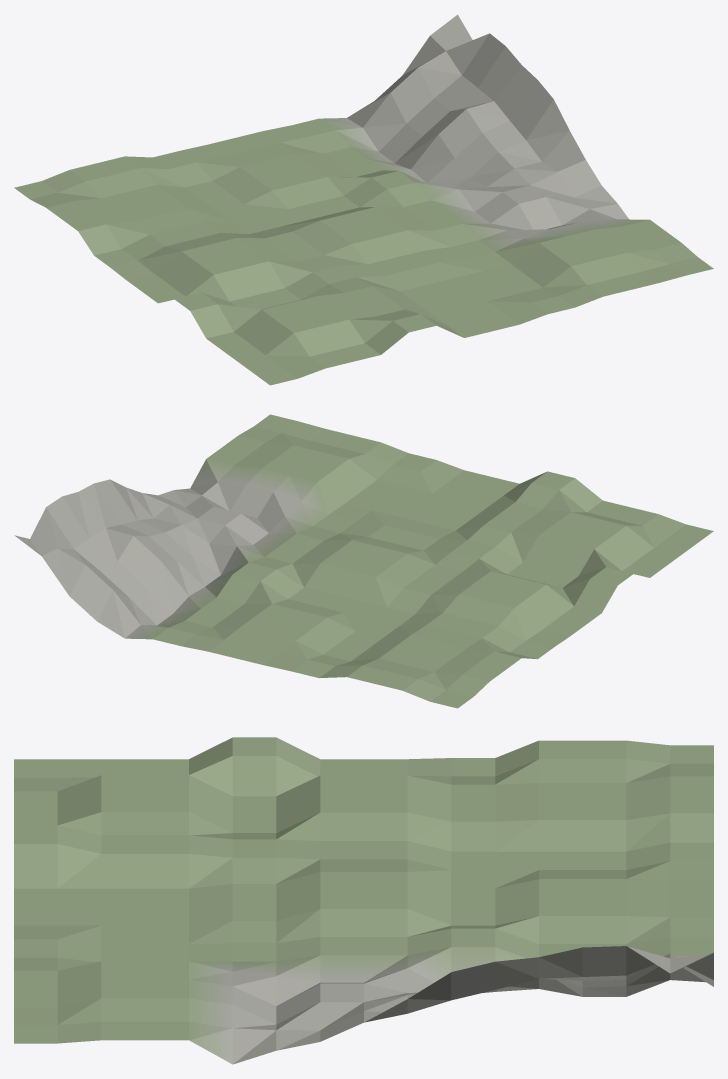
3 renders of one model, top to bottom at view 1: azimuth 30°, elevation 25°; view 2: azimuth 150°, elevation 25°; view 3: azimuth 270°, elevation 25°, orthographic. The views are drawn at different scales.
Size of the model in its own units: 32 by 6.3 by 32.
